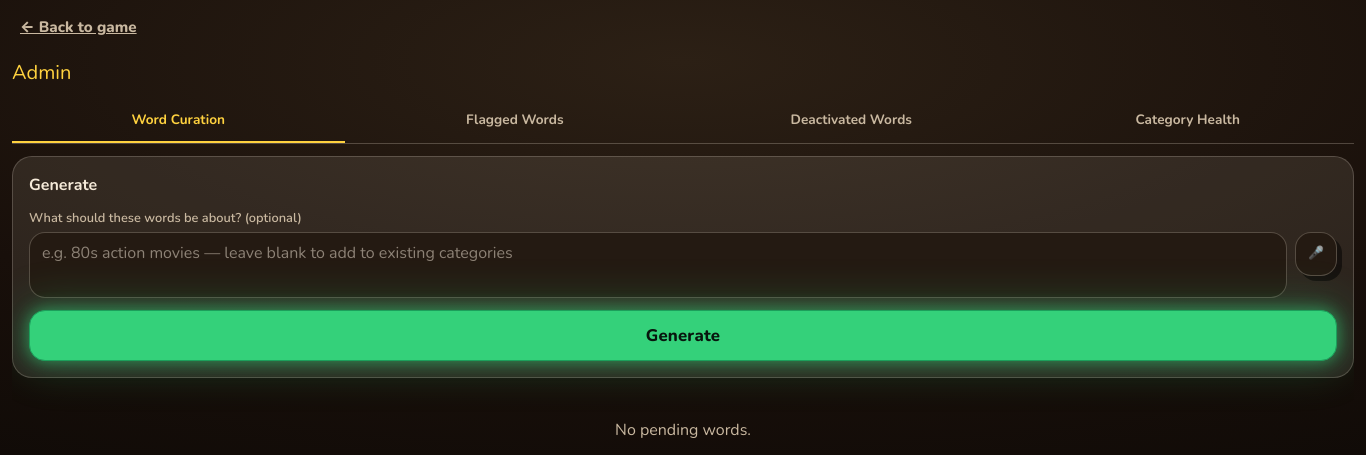
Test: AdminScreen › switches to the Flagged Words tab and shows flagged words fetched on load
Expected: the heading "Generate" is shown, [29, 174, 97, 196]
Click the tab "Flagged Words": (515, 121) [348, 99, 681, 143]
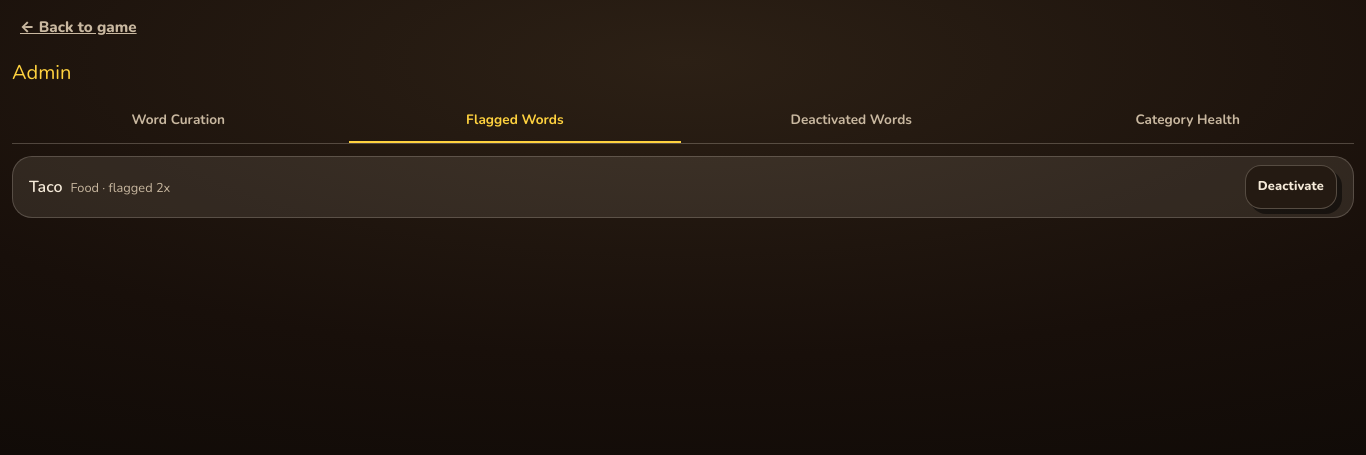
Now the text "Taco" is shown, box [29, 176, 62, 198]
Now the heading "Generate" is gone
